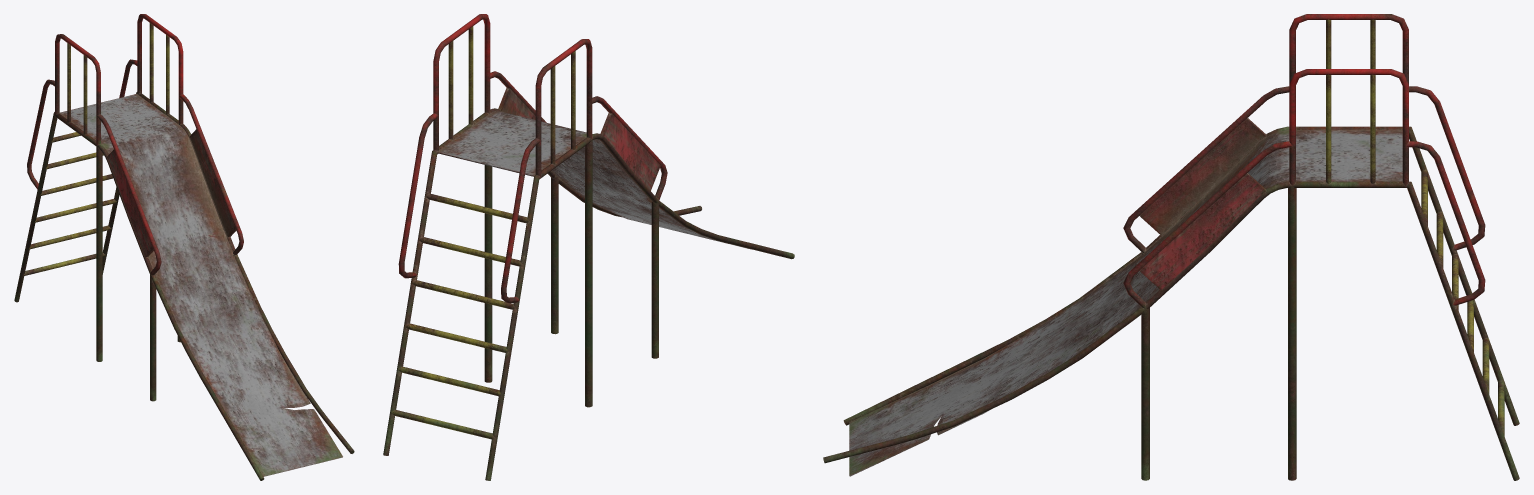
File: playground_slide.gltf
3 views of the same model, side by side, from view 1: azimuth 30°, elevation 25°; view 2: azimuth 150°, elevation 25°; view 3: azimuth 270°, elevation 25° (orthographic). The views are drawn at different scales.
Visible parts, largest first — view 1: playground_slide; view 2: playground_slide; view 3: playground_slide.
Part boxes in pixels (box(x1,y1,x2,y2)): playground_slide: box(14, 14, 354, 480); playground_slide: box(383, 14, 794, 480); playground_slide: box(823, 14, 1519, 480).
Size of the model in its own units: 0.6324 by 2.1 by 3.22.
1 material, 1 textured.
